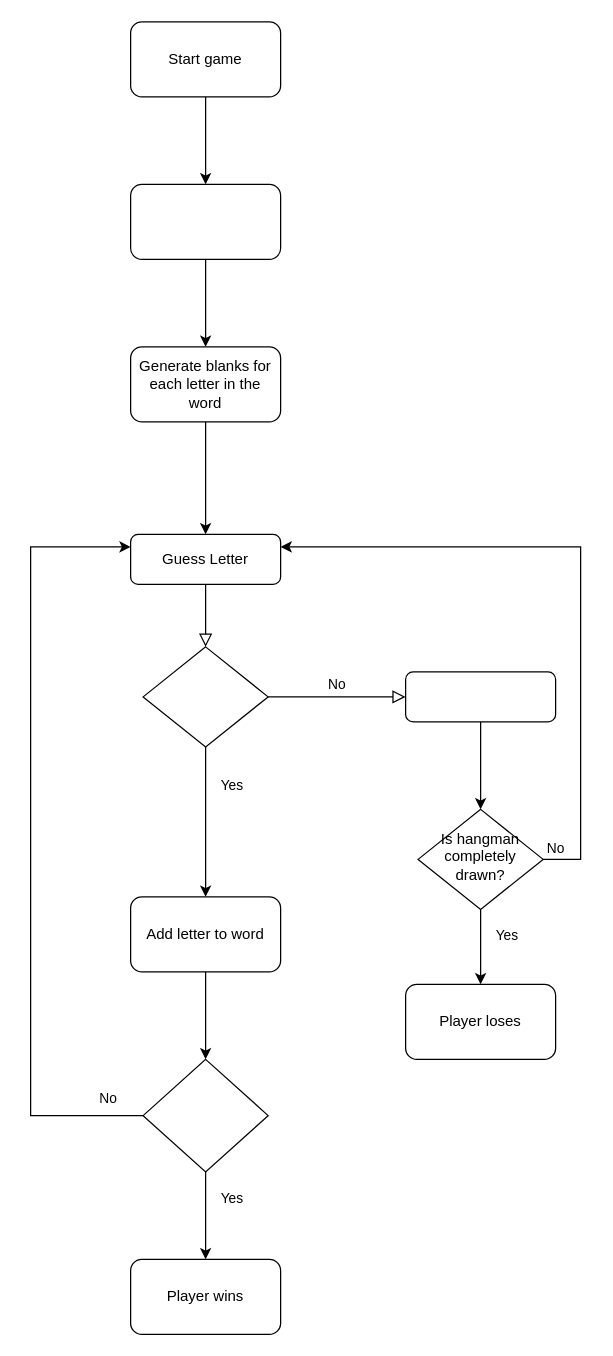
Some shapes in this 613 by 1356 pixel diagram are drawn without their labels. Each missing label, with the centre of its shape:
"Add part to hangman" belongs at (x=480, y=696).
"Generate random word" belongs at (x=205, y=221).
"Is letter in word?" belongs at (x=205, y=696).
"Is word completed?" belongs at (x=205, y=1115).
